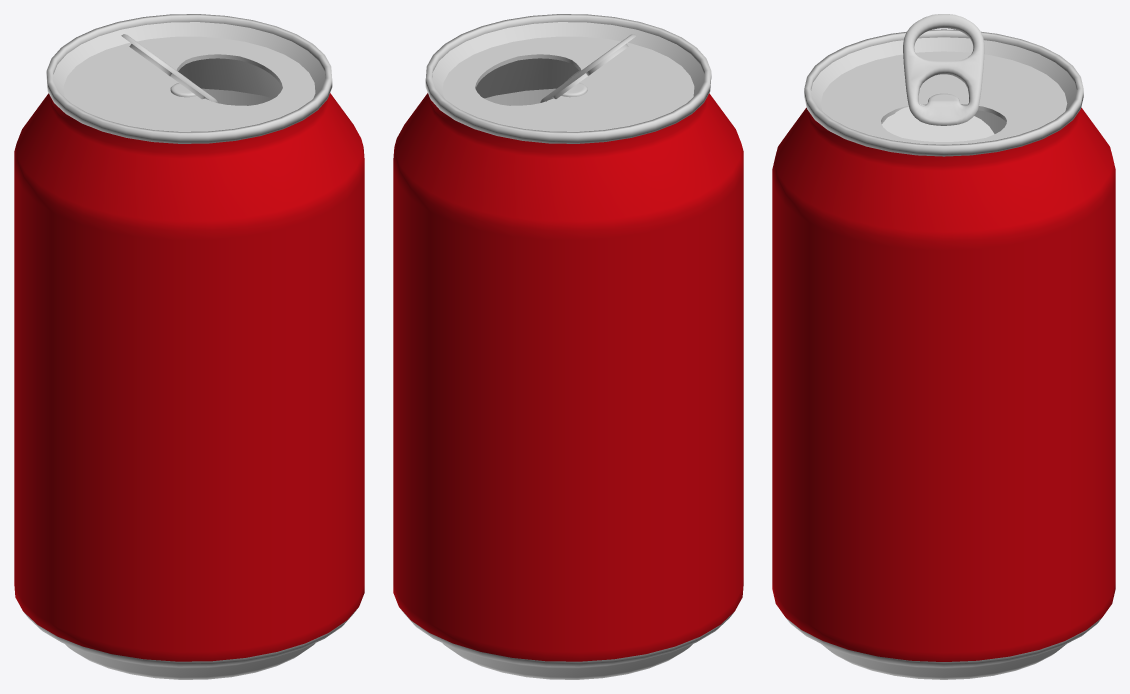
The model's file is soda_open.fbx.
3 renders of one model, left to right at view 1: azimuth 30°, elevation 25°; view 2: azimuth 150°, elevation 25°; view 3: azimuth 270°, elevation 25°, orthographic. The views are drawn at different scales.
Visible parts, largest first — view 1: Cylinder; view 2: Cylinder; view 3: Cylinder.
Part boxes in pixels (bbox=[...]): Cylinder: bbox=[14, 14, 364, 679]; Cylinder: bbox=[393, 14, 743, 679]; Cylinder: bbox=[772, 14, 1115, 679].
Size of the model in its own units: 200 by 376 by 200.
